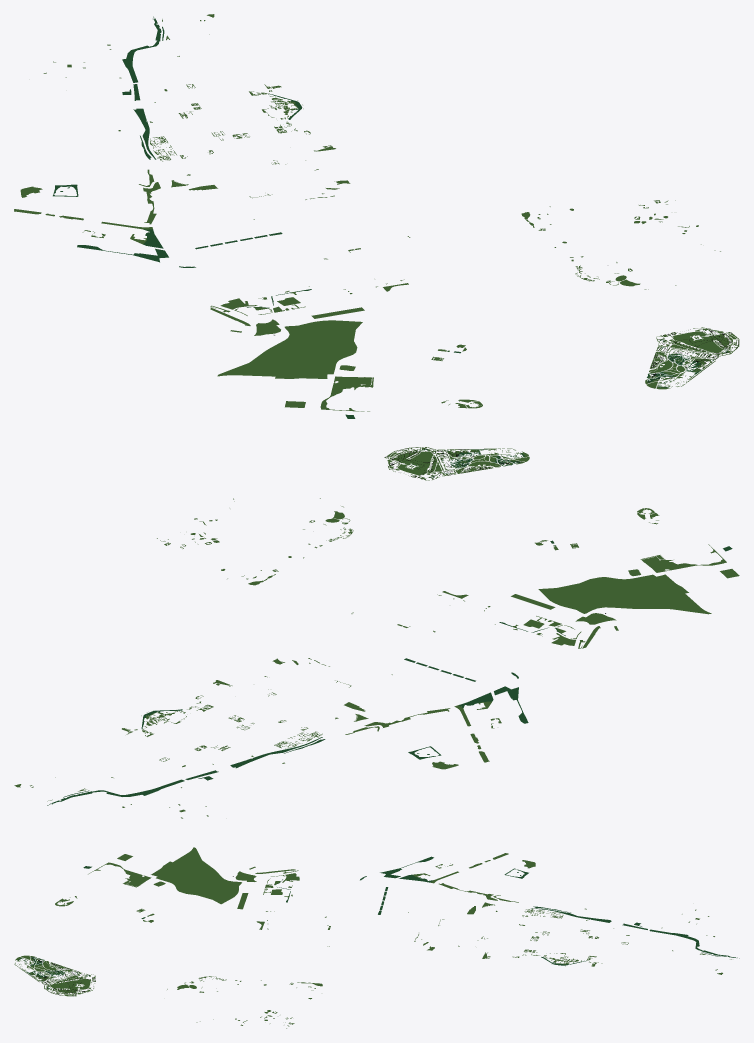
Rendered from hudsonGreenery.gltf.
3 renders of one model, top to bottom at view 1: azimuth 30°, elevation 25°; view 2: azimuth 150°, elevation 25°; view 3: azimuth 270°, elevation 25°, orthographic. The views are drawn at different scales.
Visible parts, largest first — view 1: map_6osm_vegetation, map_44osm_vegetation, map_44osm_forest; view 2: map_6osm_vegetation, map_44osm_vegetation, map_44osm_forest; view 3: map_6osm_vegetation, map_44osm_vegetation, map_44osm_forest.
Part boxes in pixels (x1=…): map_6osm_vegetation: x1=217, y1=200, x2=739, y2=411; map_44osm_vegetation: x1=14, y1=14, x2=410, y2=332; map_44osm_forest: x1=53, y1=16, x2=311, y2=308; map_6osm_vegetation: x1=157, y1=447, x2=739, y2=624; map_44osm_vegetation: x1=14, y1=594, x2=618, y2=818; map_44osm_forest: x1=47, y1=622, x2=565, y2=805; map_6osm_vegetation: x1=14, y1=847, x2=322, y2=1028; map_44osm_vegetation: x1=249, y1=853, x2=731, y2=974; map_44osm_forest: x1=275, y1=856, x2=739, y2=965.
Bounding box in the file's own units: 534 × 0.01 × 903.
